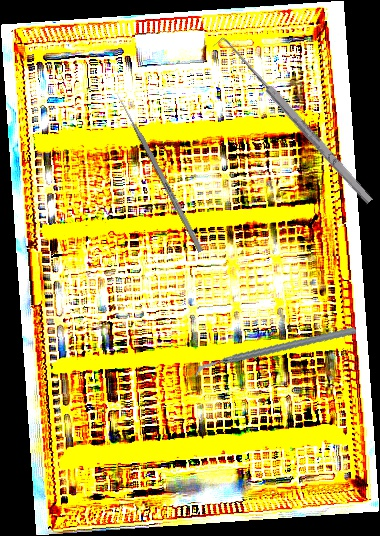Chopper: (192, 301, 357, 404)
Hook Surgical: (211, 32, 376, 212)
Pusher: (114, 91, 204, 253)
